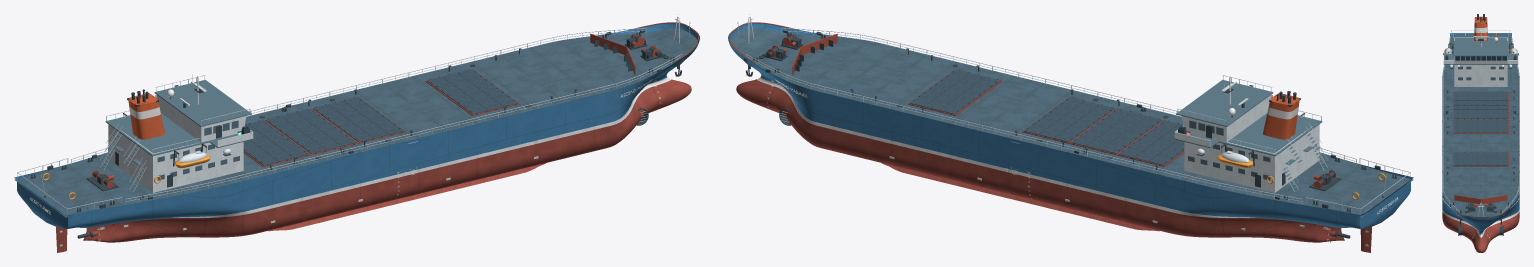
The model's file is blender-hull-V8A.glb.
3 views of the same model, side by side, from view 1: azimuth 30°, elevation 25°; view 2: azimuth 150°, elevation 25°; view 3: azimuth 270°, elevation 25° (orthographic). The views are drawn at different scales.
Parts seen in each view (by area): view 1: ShipHull, Main_Deck, CargoBay_Pad_HatchCovers, Accommodation_Block, House_Deck_Levels, Deck_Safety_Rails, Deck_Mooring_Machinery, Bilge_Keels, Hatch_Coamings_Cleats, House_Outfit_Rails_Ladders, Funnel_Casing, Bridge_Window_Glazing (+1 smaller); view 2: ShipHull, Main_Deck, CargoBay_Pad_HatchCovers, Accommodation_Block, House_Deck_Levels, Deck_Safety_Rails, Deck_Mooring_Machinery, Bilge_Keels, Hatch_Coamings_Cleats, House_Outfit_Rails_Ladders, Funnel_Casing, Bridge_Window_Glazing (+1 smaller); view 3: Main_Deck, CargoBay_Pad_HatchCovers, ShipHull, Accommodation_Block, House_Deck_Levels, Deck_Mooring_Machinery, Hatch_Coamings_Cleats, Deck_Safety_Rails, Bridge_Window_Glazing, Funnel_Casing, House_Outfit_Rails_Ladders, LifeSaving_Appliances (+6 smaller).
Boxes of the visible parts, box(x1,y1,x2,y2) form: ShipHull: box(14, 23, 699, 242); Main_Deck: box(14, 28, 698, 217); CargoBay_Pad_HatchCovers: box(243, 69, 518, 165); Accommodation_Block: box(108, 95, 246, 192); House_Deck_Levels: box(105, 79, 253, 156); Deck_Safety_Rails: box(17, 22, 698, 213); Deck_Mooring_Machinery: box(30, 14, 690, 212); Bilge_Keels: box(268, 163, 545, 231); Hatch_Coamings_Cleats: box(243, 69, 519, 166); House_Outfit_Rails_Ladders: box(100, 75, 253, 191); Funnel_Casing: box(128, 93, 164, 139); Bridge_Window_Glazing: box(115, 120, 239, 187); ShipHull: box(728, 23, 1413, 242); Main_Deck: box(729, 28, 1413, 217); CargoBay_Pad_HatchCovers: box(909, 69, 1184, 165); Accommodation_Block: box(1181, 95, 1319, 192); House_Deck_Levels: box(1174, 79, 1322, 156); Deck_Safety_Rails: box(729, 22, 1410, 213); Deck_Mooring_Machinery: box(737, 14, 1397, 212); Bilge_Keels: box(882, 163, 1159, 231); Hatch_Coamings_Cleats: box(908, 69, 1184, 166); House_Outfit_Rails_Ladders: box(1174, 75, 1327, 191); Funnel_Casing: box(1263, 93, 1299, 139); Bridge_Window_Glazing: box(1188, 120, 1285, 187); Main_Deck: box(1442, 34, 1519, 217); CargoBay_Pad_HatchCovers: box(1453, 91, 1508, 165); ShipHull: box(1442, 33, 1519, 252); Accommodation_Block: box(1454, 37, 1507, 86); House_Deck_Levels: box(1443, 37, 1518, 64); Deck_Mooring_Machinery: box(1443, 36, 1518, 224); Hatch_Coamings_Cleats: box(1452, 91, 1509, 166); Deck_Safety_Rails: box(1443, 30, 1518, 217); Bridge_Window_Glazing: box(1455, 56, 1506, 80); Funnel_Casing: box(1474, 16, 1487, 40); House_Outfit_Rails_Ladders: box(1443, 33, 1518, 66); LifeSaving_Appliances: box(1444, 33, 1517, 68).
Size of the model in its own units: 44.67 by 9.68 by 7.78.
24 materials, 10 textured.
